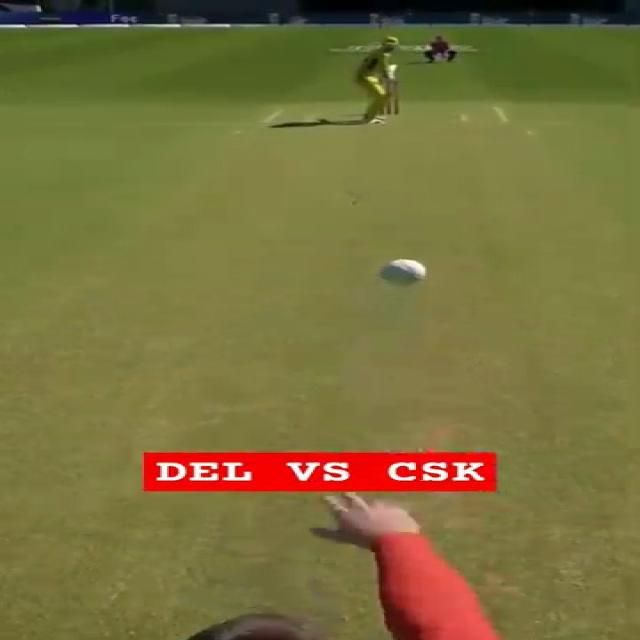ball: (373, 257, 428, 292)
